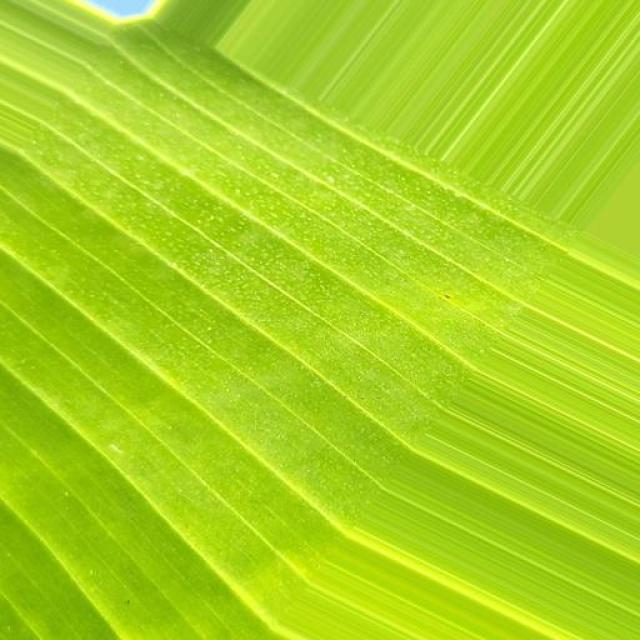Black_leaf_spot: (11, 84, 609, 640)
